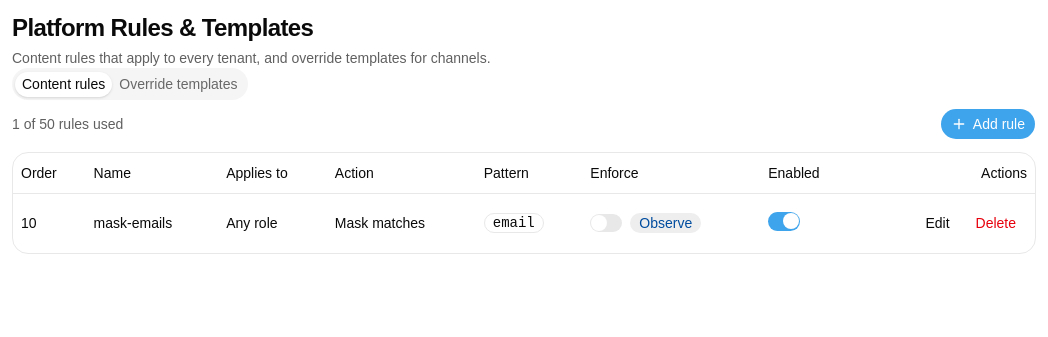
Test: override templates › lists templates with version and override kinds
This screenshot has width=1048, height=337.
Click the tab "Override templates": (178,84) [112,72,245,96]
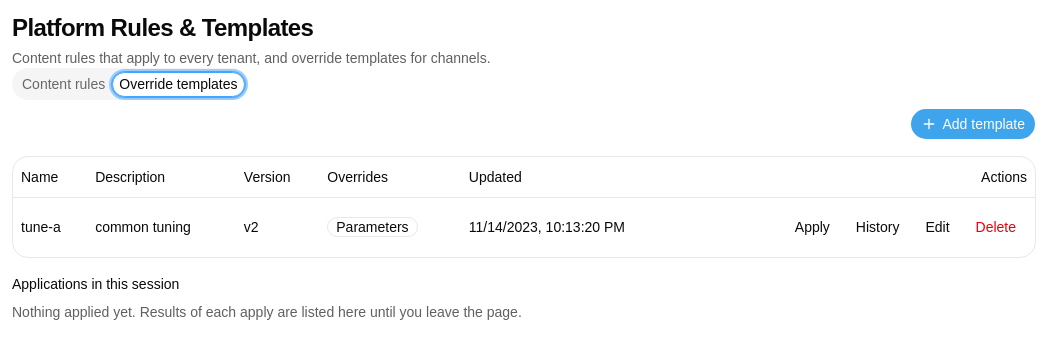
Now the text "tune-a" is shown, box [13,197,87,257]
Now the text "v2" is shown, box [236,197,319,257]
Now the text "Parameters" is shown, box [327,217,418,237]
